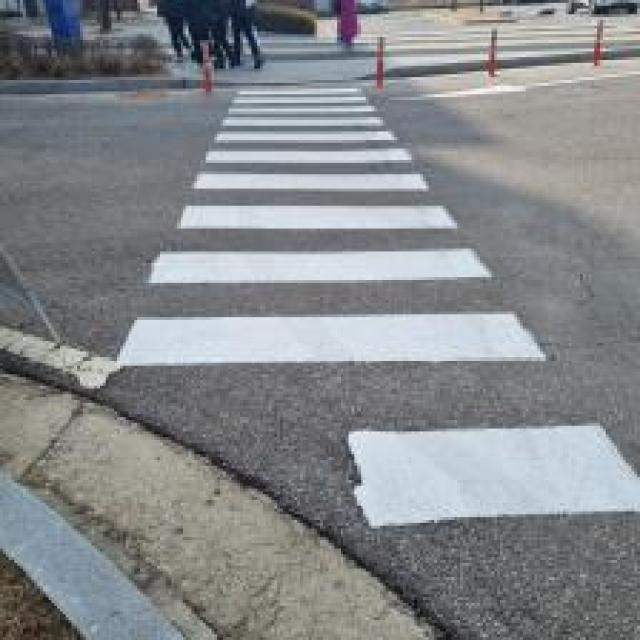walk-crossing: (196, 64, 487, 542)
